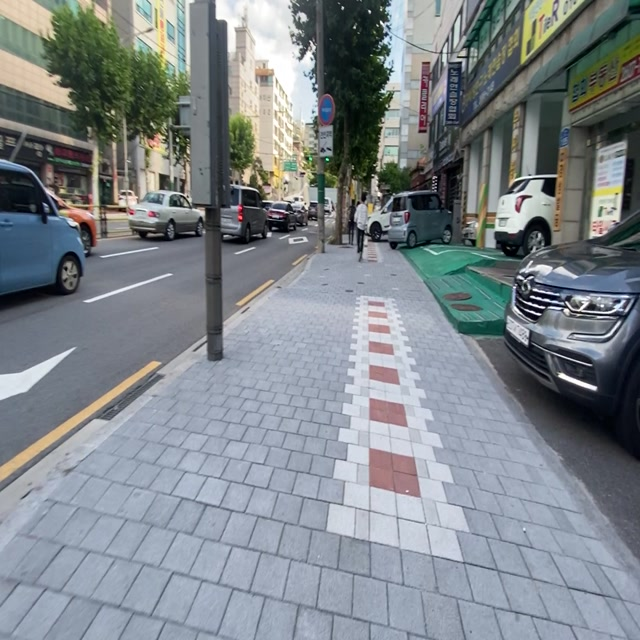Vehicle: (502, 210, 638, 455), (1, 159, 83, 295), (493, 174, 556, 255), (494, 174, 555, 255), (368, 191, 452, 247), (128, 190, 203, 239), (48, 190, 96, 253), (50, 191, 96, 252), (221, 186, 269, 241), (267, 202, 295, 229), (366, 211, 388, 240)
